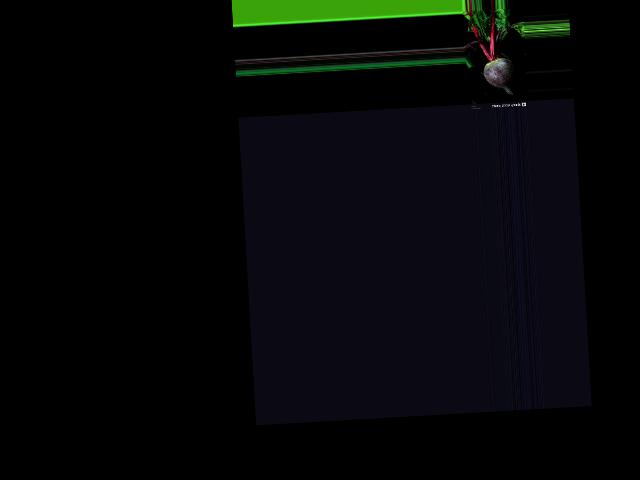beet: (461, 7, 527, 97)
